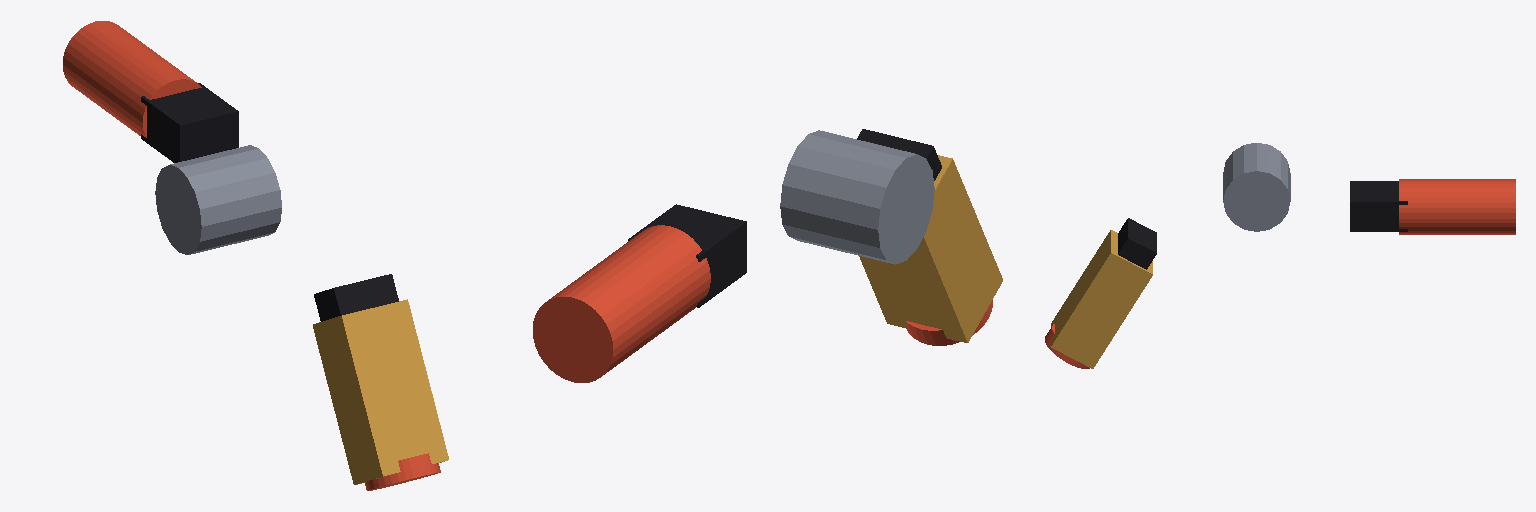
The robot description file, URDF, robot "g0051_c08":
<robot name="g0051_c08">
  <link name="palm">
    <visual name="palm_palm1">
      <origin xyz="0 0 0" rpy="0 0 0" />
      <geometry>
        <mesh filename="palm_palm1.obj" />
      </geometry>
      <material name="palm_palm1_mat">
        <color rgba="0.55 0.57 0.62 1" />
      </material>
    </visual>
    <collision>
      <origin xyz="0 0 0" rpy="0 0 0" />
      <geometry>
        <mesh filename="palm_palm1.obj" />
      </geometry>
    </collision>
    <visual name="palm_mount2">
      <origin xyz="0 0 0" rpy="0 0 0" />
      <geometry>
        <mesh filename="palm_mount2.obj" />
      </geometry>
      <material name="palm_mount2_mat">
        <color rgba="0.55 0.57 0.62 1" />
      </material>
    </visual>
    <collision>
      <origin xyz="0 0 0" rpy="0 0 0" />
      <geometry>
        <mesh filename="palm_mount2.obj" />
      </geometry>
    </collision>
    <visual name="palm_motor3">
      <origin xyz="-0.0045 -0.07625 -0.0335048095" rpy="1.04719755 -3.061617e-17 -5.30287619e-17" />
      <geometry>
        <box size="0.029 0.034 0.02" />
      </geometry>
      <material name="palm_motor3_mat">
        <color rgba="0.15 0.15 0.17 1" />
      </material>
    </visual>
    <collision>
      <origin xyz="-0.0045 -0.07625 -0.0335048095" rpy="1.04719755 -3.061617e-17 -5.30287619e-17" />
      <geometry>
        <box size="0.029 0.034 0.02" />
      </geometry>
    </collision>
    <visual name="palm_motor4">
      <origin xyz="-0.0045 0.0725 -4.5924255e-19" rpy="-3.14159265 6.123234e-17 3.74939946e-33" />
      <geometry>
        <box size="0.029 0.034 0.02" />
      </geometry>
      <material name="palm_motor4_mat">
        <color rgba="0.15 0.15 0.17 1" />
      </material>
    </visual>
    <collision>
      <origin xyz="-0.0045 0.0725 -4.5924255e-19" rpy="-3.14159265 6.123234e-17 3.74939946e-33" />
      <geometry>
        <box size="0.029 0.034 0.02" />
      </geometry>
    </collision>
    <inertial>
      <origin xyz="0 -0.00456733774 -0.0138308285" rpy="-1.57079633 0.22934957 -1.57079633" />
      <mass value="0.338304163" />
      <inertia ixx="7.94625242e-05" ixy="0" ixz="0" iyy="0.000824867084" iyz="0" izz="0.000871852409" />
    </inertial>
  </link>
  <link name="f0_link0">
    <visual name="f0_link0_link1">
      <origin xyz="0.02375 0 -1.38777878e-17" rpy="0 4.06369831e-17 0" />
      <geometry>
        <box size="0.0715 0.033 0.029" />
      </geometry>
      <material name="f0_link0_link1_mat">
        <color rgba="0.80 0.62 0.30 1" />
      </material>
    </visual>
    <collision>
      <origin xyz="0.02375 0 -1.38777878e-17" rpy="0 4.06369831e-17 0" />
      <geometry>
        <box size="0.0715 0.033 0.029" />
      </geometry>
    </collision>
    <inertial>
      <origin xyz="0.02375 0 0" rpy="0 0 0" />
      <mass value="0.119744625" />
      <inertia ixx="1.92589272e-05" ixy="0" ixz="0" iyy="5.94058074e-05" iyz="0" izz="6.18805296e-05" />
    </inertial>
  </link>
  <link name="f0_link1">
    <visual name="f0_link1_link1">
      <origin xyz="0.009 0 -6.9388939e-18" rpy="-1.57079633 -0 -1.57079633" />
      <geometry>
        <cylinder radius="0.0165" length="0.009" />
      </geometry>
      <material name="f0_link1_link1_mat">
        <color rgba="0.85 0.35 0.25 1" />
      </material>
    </visual>
    <collision>
      <origin xyz="0.009 0 -6.9388939e-18" rpy="-1.57079633 -0 -1.57079633" />
      <geometry>
        <cylinder radius="0.0165" length="0.009" />
      </geometry>
    </collision>
    <inertial>
      <origin xyz="0.009 0 0" rpy="0 0 0" />
      <mass value="0.046399949" />
      <inertia ixx="5.41970115e-06" ixy="0" ixz="0" iyy="7.09430898e-06" iyz="0" izz="7.09430898e-06" />
    </inertial>
  </link>
  <link name="f1_link0">
    <visual name="f1_link0_link1">
      <origin xyz="0.039 0 -3.85185989e-34" rpy="-1.57079633 -0 -1.57079633" />
      <geometry>
        <cylinder radius="0.0165" length="0.069" />
      </geometry>
      <material name="f1_link0_link1_mat">
        <color rgba="0.85 0.35 0.25 1" />
      </material>
    </visual>
    <collision>
      <origin xyz="0.039 0 -3.85185989e-34" rpy="-1.57079633 -0 -1.57079633" />
      <geometry>
        <cylinder radius="0.0165" length="0.069" />
      </geometry>
    </collision>
    <inertial>
      <origin xyz="0.039 0 0" rpy="0 0 0" />
      <mass value="0.136206302" />
      <inertia ixx="1.76445909e-05" ixy="0" ixz="0" iyy="0.000104842911" iyz="0" izz="0.000104842911" />
    </inertial>
  </link>
  <joint name="f0_j0" type="revolute">
    <parent link="palm" />
    <child link="f0_link0" />
    <origin xyz="-0.0045 -0.08 -0.04" rpy="0 1.04719755 -1.57079633" />
    <axis xyz="0 1 6.123234e-17" />
    <limit effort="0.5" lower="-0.523598776" upper="0.523598776" velocity="5" />
    <dynamics damping="0.0775033" friction="0" />
  </joint>
  <joint name="f0_j1" type="revolute">
    <parent link="f0_link0" />
    <child link="f0_link1" />
    <origin xyz="0.05 0 0" rpy="0 0 0" />
    <axis xyz="0 0 1" />
    <limit effort="0.5" lower="-0.523598776" upper="1.57079633" velocity="5" />
    <dynamics damping="0.0775033" friction="0" />
  </joint>
  <joint name="f1_j0" type="revolute">
    <parent link="palm" />
    <child link="f1_link0" />
    <origin xyz="-0.0045 0.08 0" rpy="-3.14159265 -6.123234e-17 1.57079633" />
    <axis xyz="0 1 6.123234e-17" />
    <limit effort="0.5" lower="-0.523598776" upper="0.523598776" velocity="5" />
    <dynamics damping="0.0775033" friction="0" />
  </joint>
</robot>

--- Facts derived from the render (not from the file) ---
3 views of the same robot in one strip: view 1: azimuth 30°, elevation 25°; view 2: azimuth 150°, elevation 25°; view 3: azimuth 270°, elevation 25° (orthographic).
Robot: g0051_c08 — 4 links, 3 joints (3 revolute); root link palm; default pose: every joint at zero.
Visible links, largest first — view 1: palm, f0_link0, f1_link0, f0_link1; view 2: palm, f1_link0, f0_link0, f0_link1; view 3: palm, f0_link0, f1_link0.
Boxes of the visible links, <box> form: palm: <box>141,83,398,321</box>; f0_link0: <box>313,299,448,484</box>; f1_link0: <box>63,21,201,137</box>; f0_link1: <box>365,453,440,490</box>; palm: <box>628,129,941,307</box>; f1_link0: <box>533,225,710,382</box>; f0_link0: <box>859,155,1002,342</box>; f0_link1: <box>906,300,992,345</box>; palm: <box>1118,143,1407,269</box>; f0_link0: <box>1051,230,1152,368</box>; f1_link0: <box>1399,179,1515,234</box>.
Bounding box of the posed robot: 0.064 × 0.2795 × 0.1232 m (x, y, z).
Meshes: 2 distinct files referenced, 1 mesh visuals loaded (1 OBJ); not drawn: 1 (reference not matched to a file when rendering).
